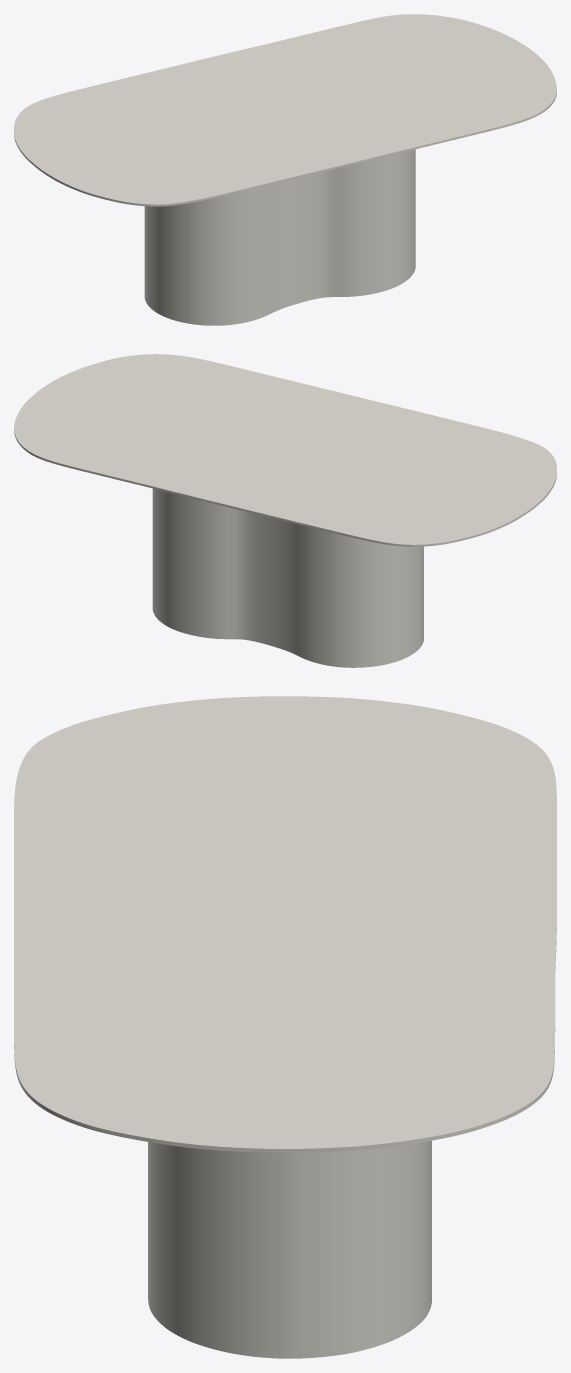
The model's file is pale_oval_facet_riverwave.glb.
The picture shows the model from 3 angles, top to bottom: view 1: azimuth 30°, elevation 25°; view 2: azimuth 150°, elevation 25°; view 3: azimuth 270°, elevation 25°; orthographic projection. The views are drawn at different scales.
Visible parts, largest first — view 1: facet_oval, riverwave; view 2: facet_oval, riverwave; view 3: facet_oval, riverwave.
Boxes of the visible parts, <box> form: facet_oval: <box>14,14,556,206</box>; riverwave: <box>144,149,415,325</box>; facet_oval: <box>14,354,556,546</box>; riverwave: <box>152,488,423,667</box>; facet_oval: <box>14,696,556,1152</box>; riverwave: <box>148,1140,431,1358</box>.
Bounding box in the file's own units: 7.5 × 2.5 × 3.8.
1 material, 1 textured.
